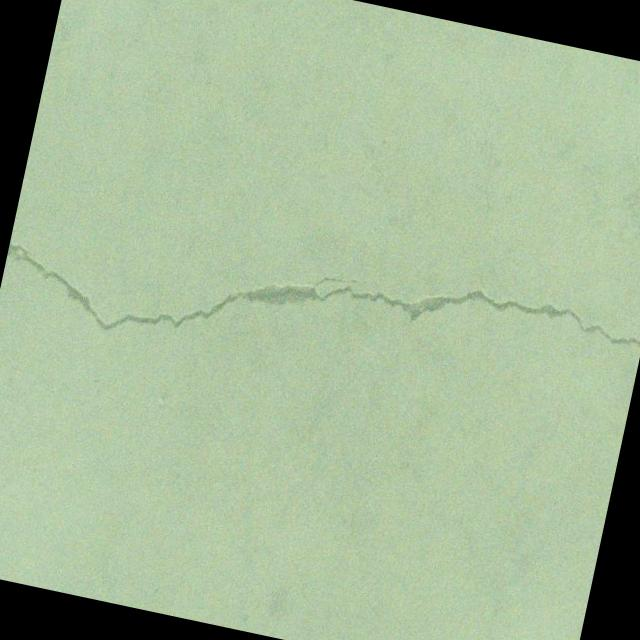crack: (0, 190, 640, 439)
